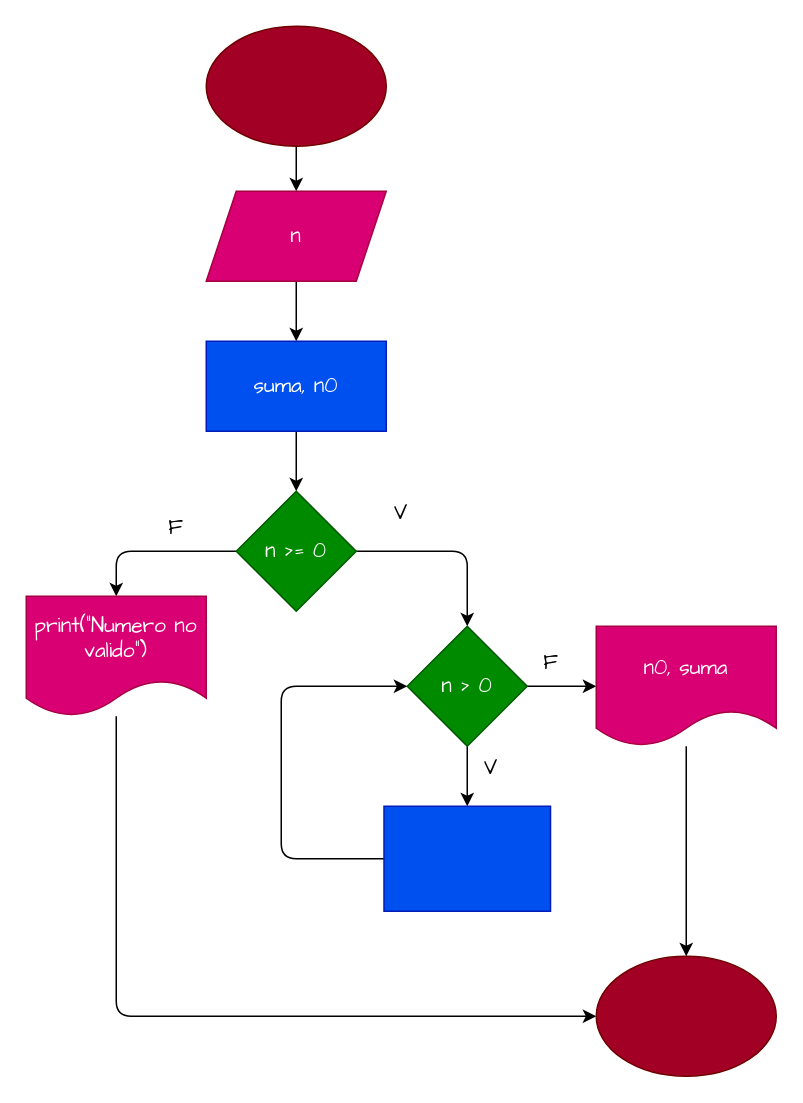
This 803x1103 diagram has some shape labels left out. Here are the shapes that lost their labels. From the top down, the centre of each, then its label:
the point at 295,85: Inicio
the point at 466,858: n1 = n %10 suma = suma n1 n = n//10
the point at 685,1015: Fin
